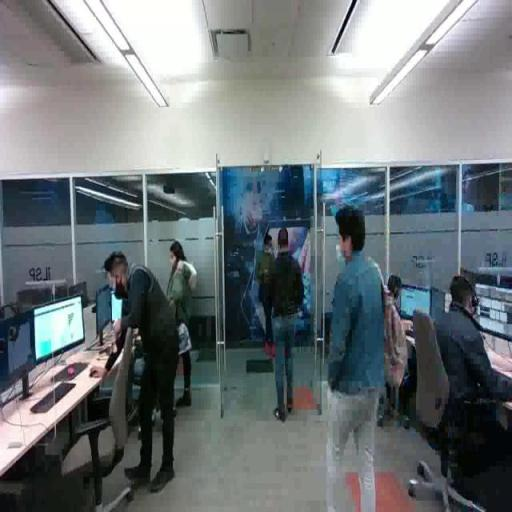person: (419, 273, 512, 508), (326, 201, 387, 512), (105, 247, 179, 497), (372, 272, 424, 422), (269, 225, 307, 427), (165, 240, 200, 410), (254, 232, 278, 359)
